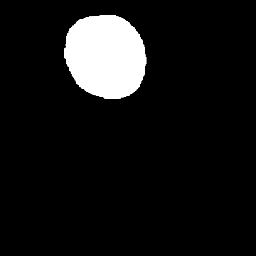mass: (67, 17, 141, 94)
